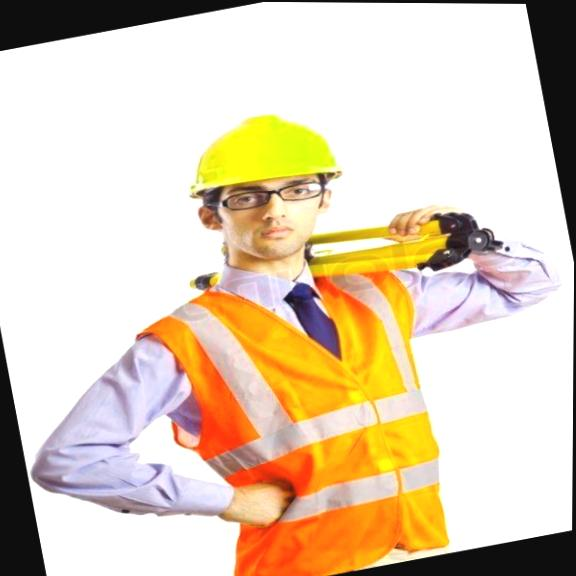safety_vest: (155, 226, 486, 576)
